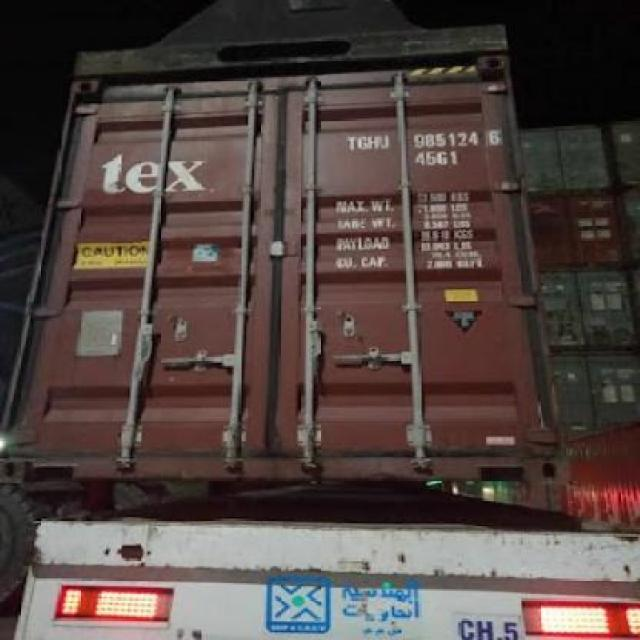ISO: (408, 150, 459, 168)
container_number: (348, 128, 508, 149)
